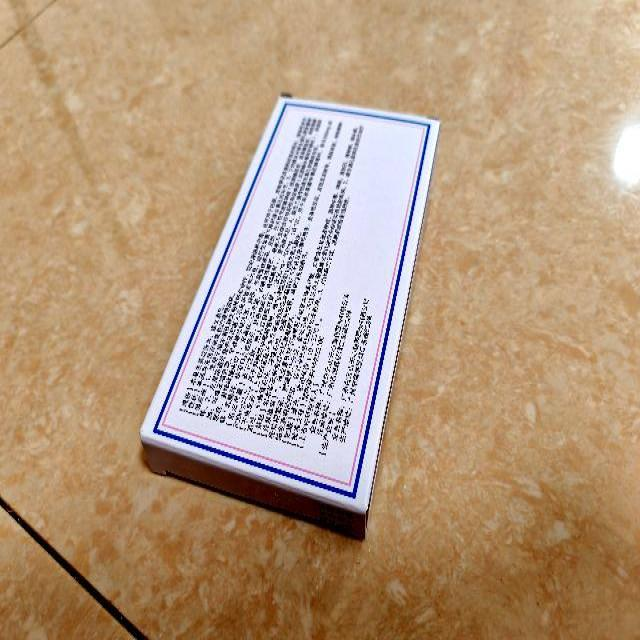box: (140, 95, 442, 538)
